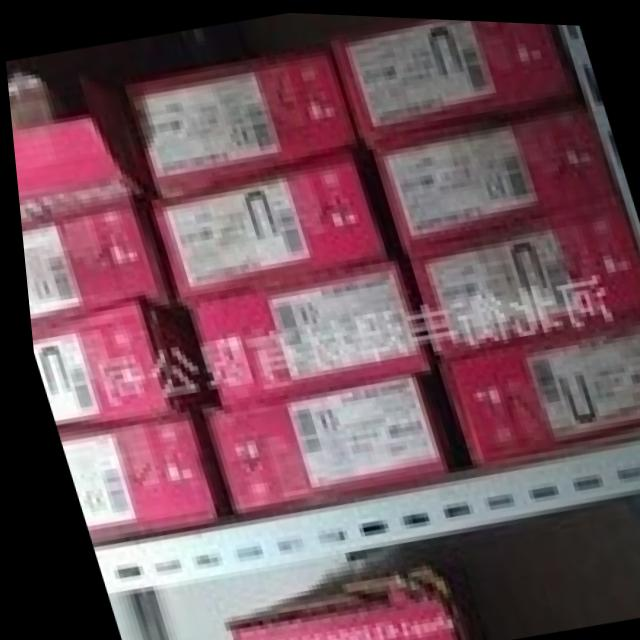box: (370, 102, 616, 257), (405, 202, 640, 359), (185, 261, 423, 408), (199, 373, 440, 516), (145, 158, 378, 303), (130, 52, 346, 197), (331, 15, 568, 145), (433, 318, 640, 463), (51, 414, 208, 542), (212, 564, 454, 640), (17, 205, 162, 331), (25, 301, 169, 425), (10, 116, 135, 225)
